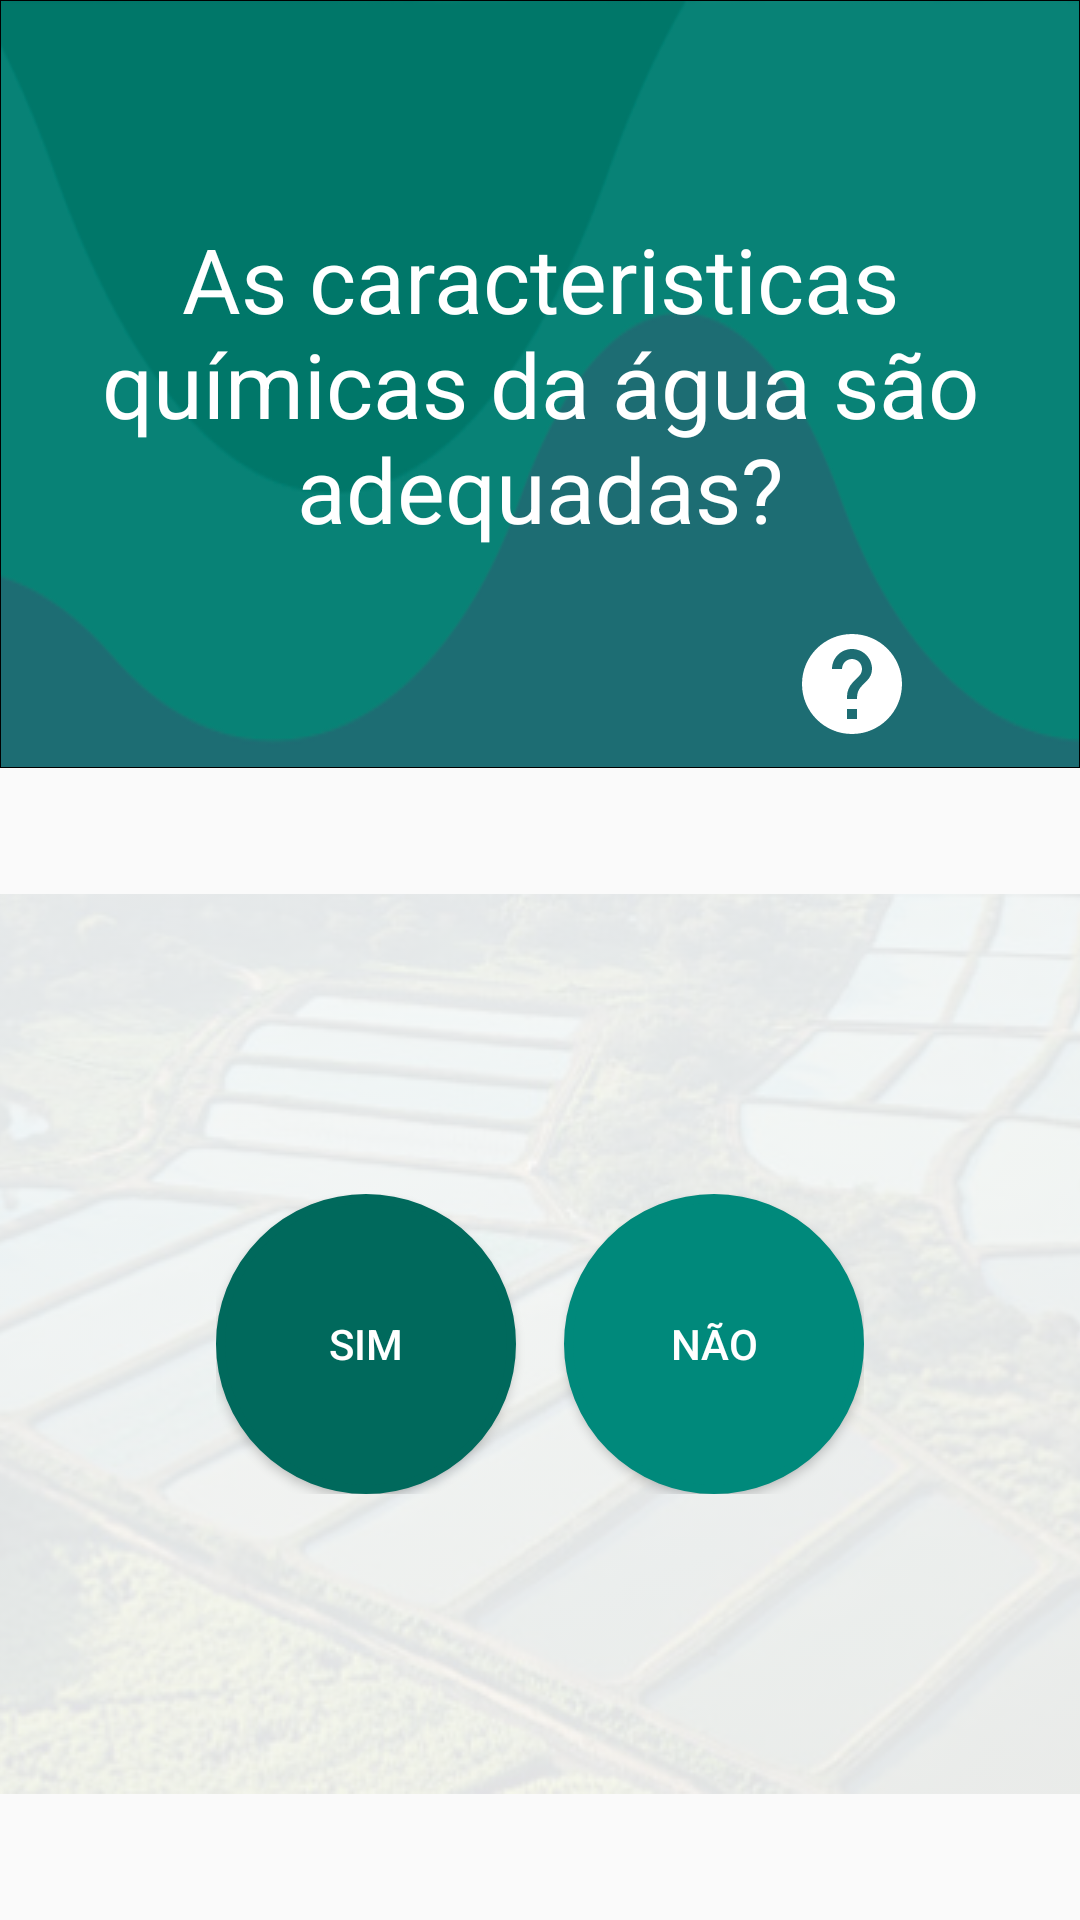

Named icons in this screenshot (1080×1920) and their bounding boxes, (x1, y1, x2, y2):
help: (802, 634, 902, 734)
